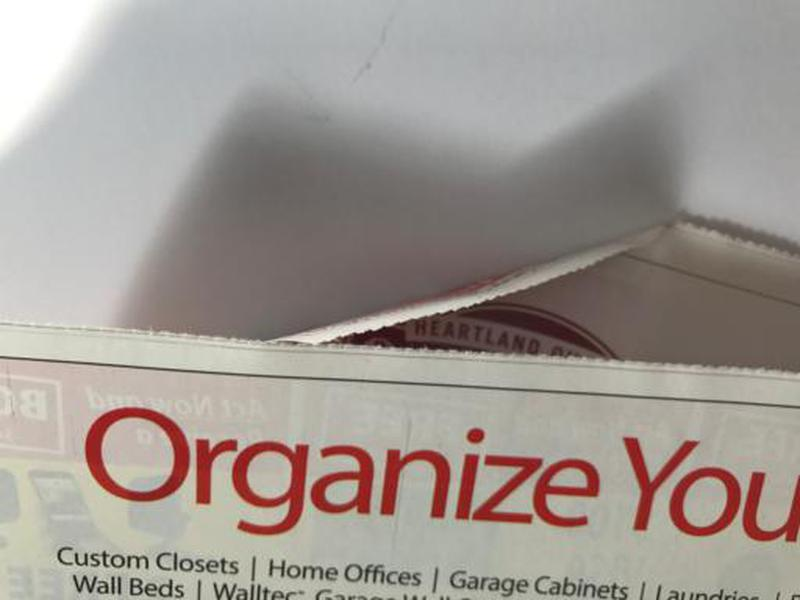paper: (1, 210, 798, 600)
